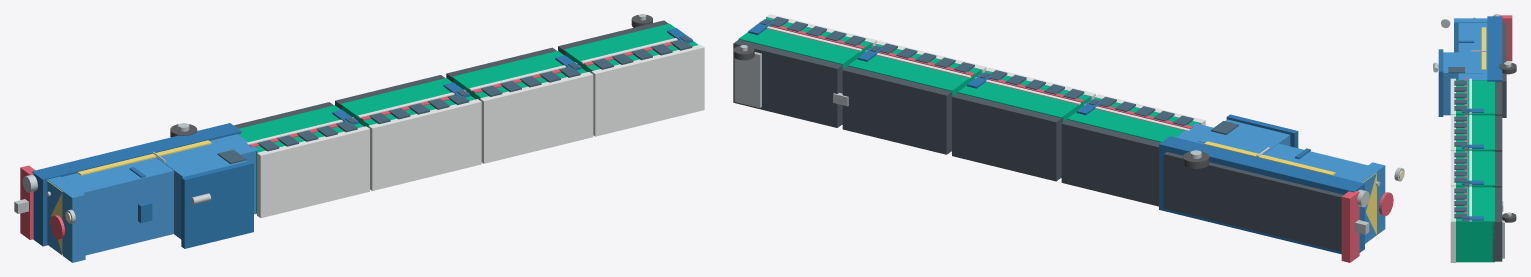
The model's file is bangladesh_passenger_train.glb.
3 views of the same model, side by side, from view 1: azimuth 30°, elevation 25°; view 2: azimuth 150°, elevation 25°; view 3: azimuth 270°, elevation 25° (orthographic). The views are drawn at different scales.
Parts seen in each view (by area): view 1: locomotive_main_hood, coach0_roof, coach2_roof, coach1_roof, coach3_roof, cab_roof, locomotive_lower_chassis, locomotive_front_nose, coach1_body, coach3_body, coach2_body, cab_body (+7 smaller); view 2: underframe, coach1_underframe, coach2_underframe, coach0_underframe, coach3_underframe, locomotive_lower_chassis, coach2_body, coach3_body, coach1_body, coach0_body, locomotive_main_hood, cab_body (+6 smaller); view 3: coach3_body, cab_body, locomotive_lower_chassis, locomotive_main_hood, coach1_body, coach2_body, coach0_body, coach3_underframe, coach3_roof, underframe, cab_roof, red_front_pilot (+43 smaller).
Boxes of the visible parts, <box> form: locomotive_main_hood: <box>61,134,259,255</box>; coach0_roof: <box>257,126,369,218</box>; coach2_roof: <box>480,72,593,163</box>; coach1_roof: <box>368,99,481,190</box>; coach3_roof: <box>591,44,704,136</box>; cab_roof: <box>181,160,253,248</box>; locomotive_lower_chassis: <box>31,123,241,246</box>; locomotive_front_nose: <box>47,176,85,262</box>; coach1_body: <box>340,78,475,127</box>; coach3_body: <box>563,23,698,72</box>; coach2_body: <box>452,51,586,100</box>; cab_body: <box>156,141,246,239</box>; underframe: <box>1163,152,1343,251</box>; coach1_underframe: <box>952,93,1063,181</box>; coach2_underframe: <box>842,66,952,154</box>; coach0_underframe: <box>1061,119,1162,206</box>; coach3_underframe: <box>733,39,843,127</box>; locomotive_lower_chassis: <box>1159,136,1364,254</box>; coach2_body: <box>848,44,981,151</box>; coach3_body: <box>738,17,871,124</box>; coach1_body: <box>957,71,1090,178</box>; coach0_body: <box>1067,97,1199,142</box>; locomotive_main_hood: <box>1176,123,1367,179</box>; cab_body: <box>1198,119,1290,154</box>; coach3_body: <box>1456,187,1494,262</box>; cab_body: <box>1443,52,1482,115</box>; locomotive_lower_chassis: <box>1487,16,1502,82</box>; locomotive_main_hood: <box>1458,23,1487,80</box>; coach1_body: <box>1456,115,1494,151</box>; coach2_body: <box>1456,151,1494,187</box>; coach0_body: <box>1456,79,1494,115</box>; coach3_underframe: <box>1492,187,1502,261</box>; coach3_roof: <box>1450,186,1455,262</box>; underframe: <box>1502,22,1506,117</box>; cab_roof: <box>1438,49,1443,116</box>; red_front_pilot: <box>1499,15,1512,61</box>.
Bounding box in the file's own units: 23.85 × 2.55 × 4.03.
